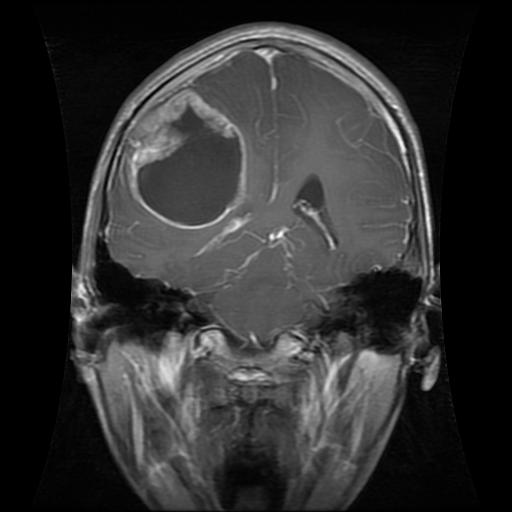Gliomia_tumour: (123, 84, 246, 228)
